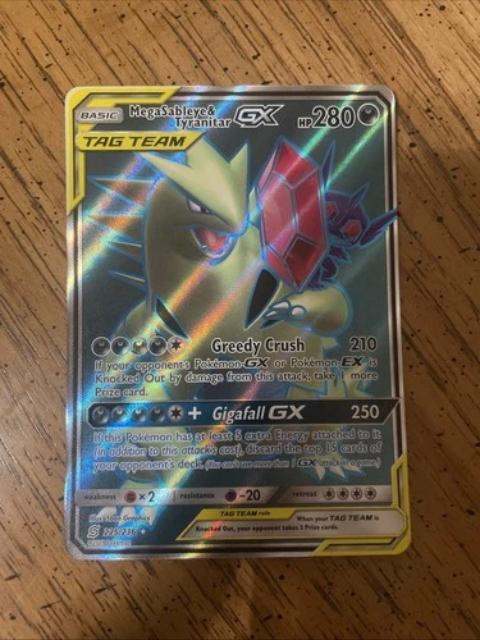Card: (57, 77, 416, 565)
Name: (123, 100, 298, 133)
